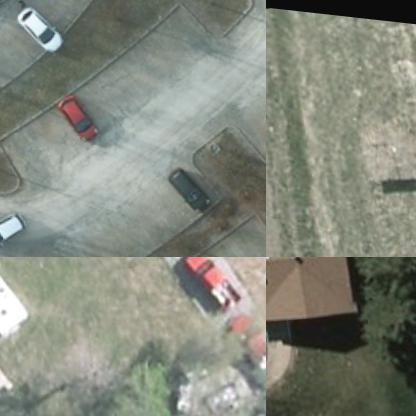camping car: (0, 257, 39, 350)
car: (219, 287, 265, 370), (13, 0, 64, 60), (166, 158, 216, 215), (56, 88, 100, 148), (0, 205, 32, 256)
pickup: (180, 257, 243, 311)
